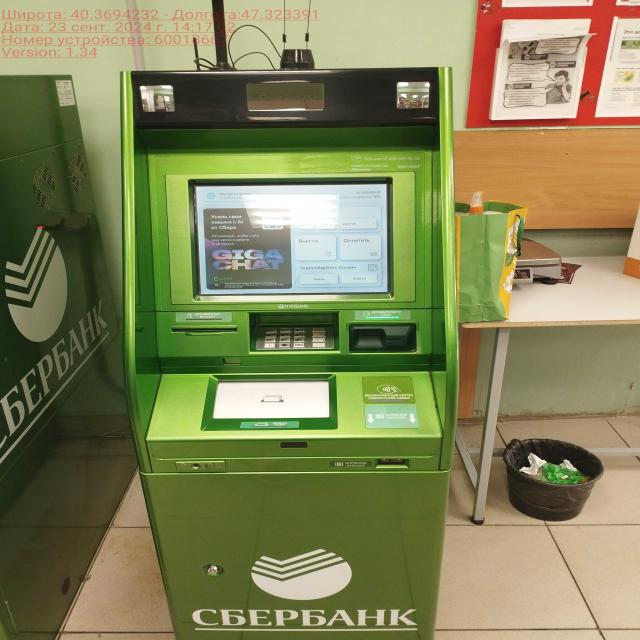bank: (117, 66, 468, 640)
